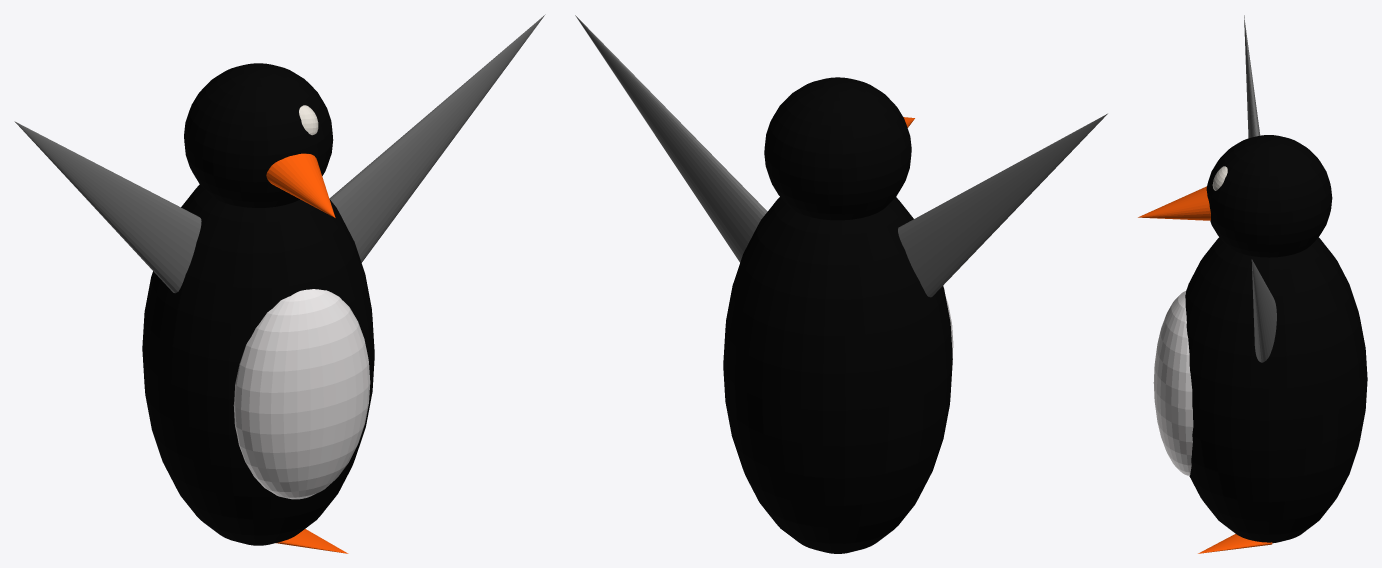
File: pinguin.glb
3 renders of one model, left to right at view 1: azimuth 30°, elevation 25°; view 2: azimuth 150°, elevation 25°; view 3: azimuth 270°, elevation 25°, orthographic. The views are drawn at different scales.
Parts seen in each view (by area): view 1: Sphere, Sphere.001, Sphere.002, Cone.003, Cone.002, Cone, Cone.001; view 2: Sphere, Sphere.002, Cone.002, Cone.003; view 3: Sphere, Sphere.002, Sphere.001, Cone.003, Cone, Cone.002, Cone.001.
Boxes of the visible parts, x1=… form: Sphere: x1=142, y1=184, x2=374, y2=545; Sphere.001: x1=233, y1=289, x2=370, y2=499; Sphere.002: x1=184, y1=63, x2=333, y2=207; Cone.003: x1=329, y1=14, x2=545, y2=262; Cone.002: x1=14, y1=121, x2=201, y2=293; Cone: x1=266, y1=153, x2=335, y2=217; Cone.001: x1=276, y1=529, x2=348, y2=553; Sphere: x1=723, y1=197, x2=952, y2=553; Sphere.002: x1=764, y1=77, x2=911, y2=220; Cone.002: x1=898, y1=113, x2=1107, y2=297; Cone.003: x1=575, y1=15, x2=767, y2=262; Sphere: x1=1185, y1=237, x2=1367, y2=543; Sphere.002: x1=1206, y1=135, x2=1332, y2=257; Sphere.001: x1=1153, y1=291, x2=1193, y2=475; Cone.003: x1=1251, y1=259, x2=1276, y2=362; Cone: x1=1138, y1=186, x2=1210, y2=220; Cone.002: x1=1244, y1=15, x2=1260, y2=138; Cone.001: x1=1198, y1=534, x2=1272, y2=553.
Size of what is drawn, in the model's own units: 5.32 by 4.67 by 2.33.
